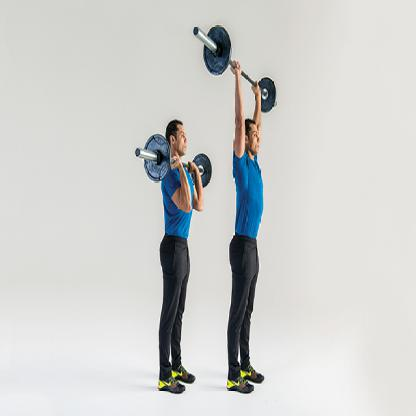Barbell: (199, 21, 235, 78), (139, 128, 173, 183)
